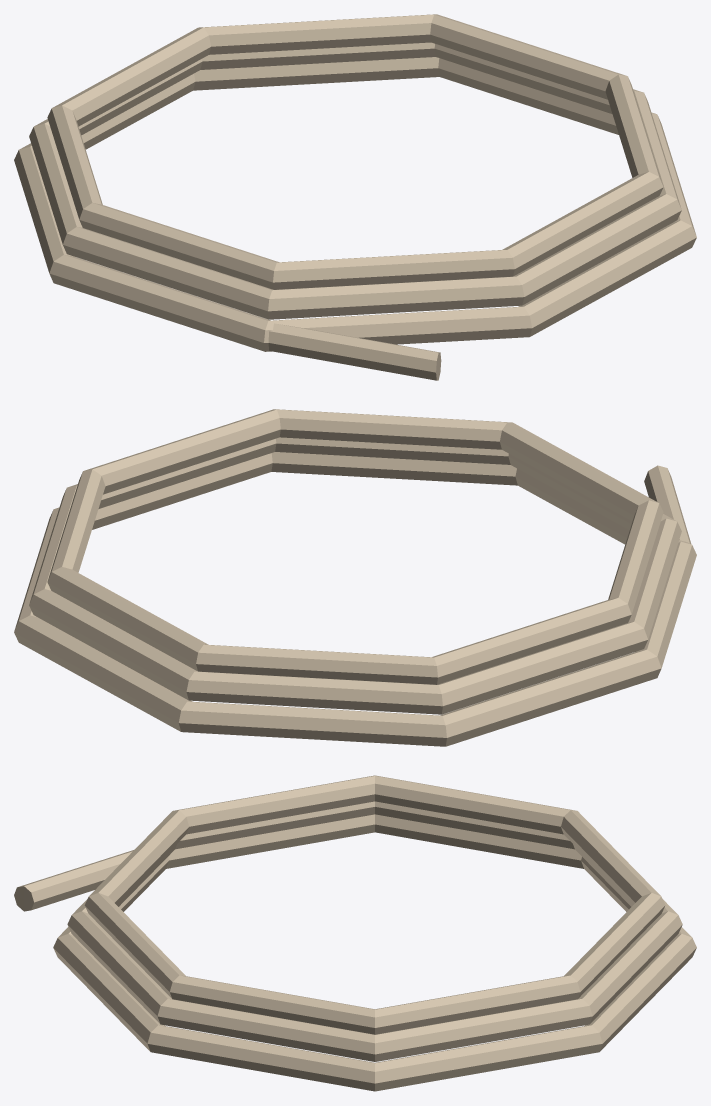
Rendered from Rope.fbx.
3 renders of one model, top to bottom at view 1: azimuth 30°, elevation 25°; view 2: azimuth 150°, elevation 25°; view 3: azimuth 270°, elevation 25°, orthographic. The views are drawn at different scales.
Visible parts, largest first — view 1: Rope; view 2: Rope; view 3: Rope.
Part boxes in pixels (x1=…): Rope: x1=14, y1=14, x2=696, y2=380; Rope: x1=14, y1=409, x2=696, y2=746; Rope: x1=14, y1=775, x2=696, y2=1091.
Bounding box in the file's own units: 52.68 × 55.89 × 6.2.
